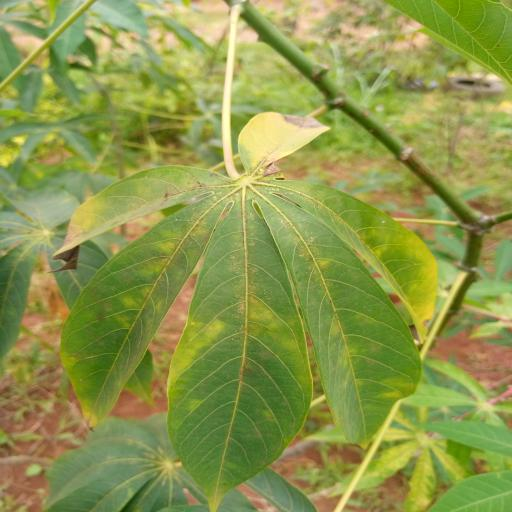Cassava_Mosaic: (61, 110, 446, 503)
